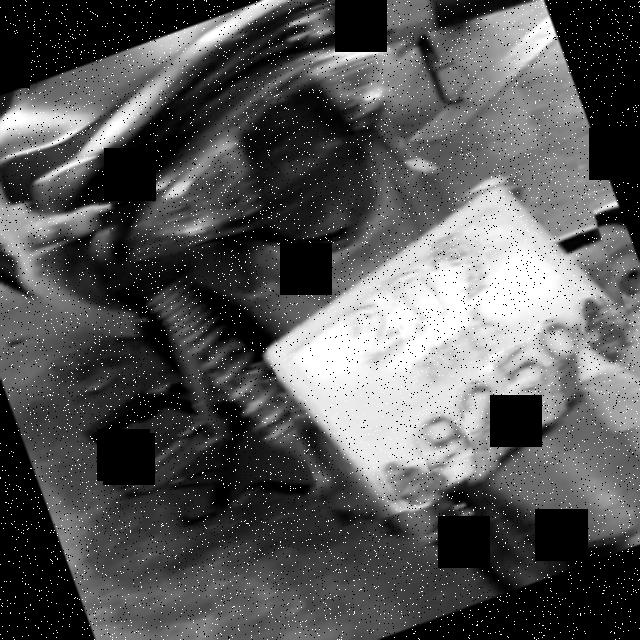letters: (332, 288, 405, 366), (529, 306, 596, 375), (428, 226, 494, 296), (380, 265, 446, 331), (488, 338, 554, 404), (410, 406, 474, 472), (454, 371, 515, 436)
license-plate: (270, 181, 636, 508)
province: (402, 296, 544, 378)
